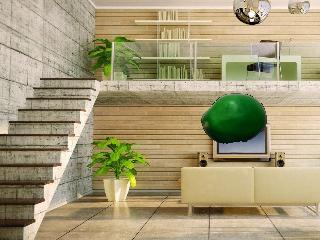lime: (199, 90, 270, 145)
